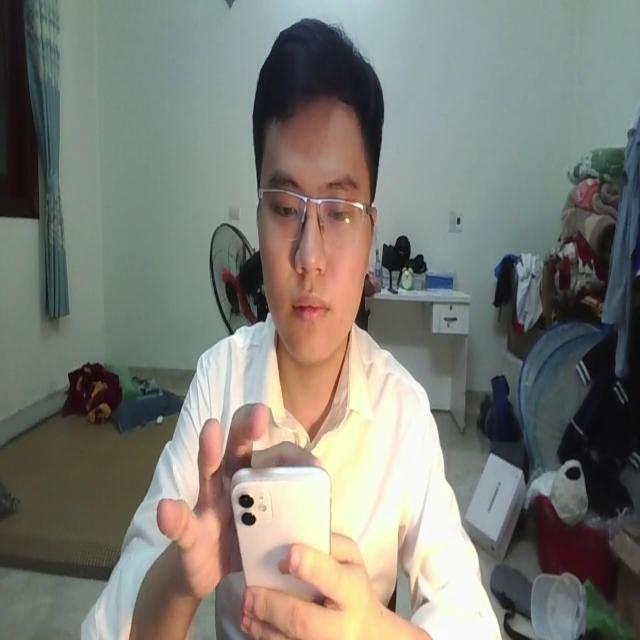phone: (226, 462, 340, 606)
student: (77, 0, 516, 640)
